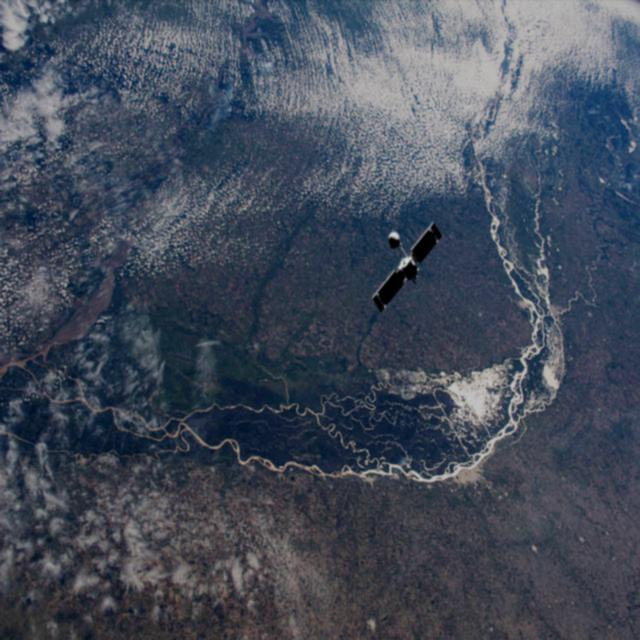satellite: (360, 219, 443, 316)
